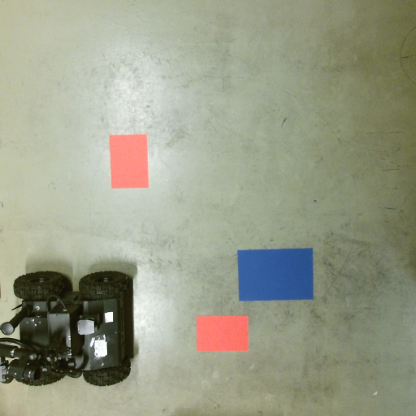Blue: (235, 248, 316, 301)
Jaguar: (0, 271, 134, 388)
Red: (110, 132, 152, 190), (196, 313, 251, 354)
